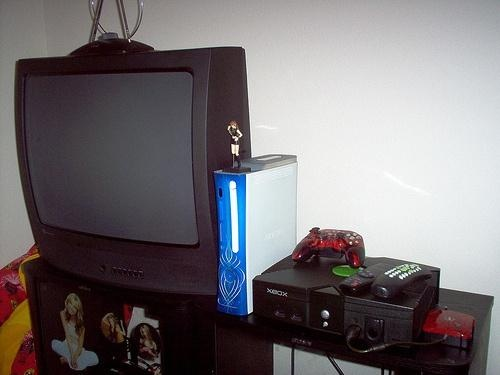tvmonitor: (15, 47, 252, 298)
